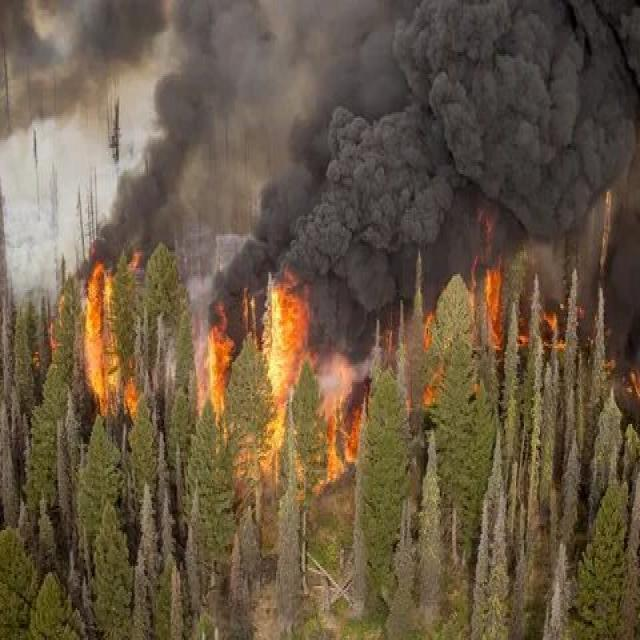Fire: (40, 271, 396, 480)
Smoke: (133, 0, 640, 272)
